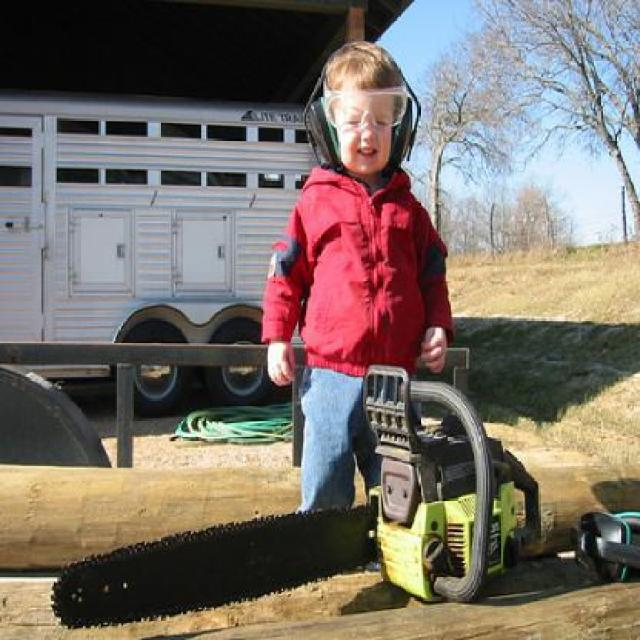Chainsaw: (52, 362, 539, 628)
